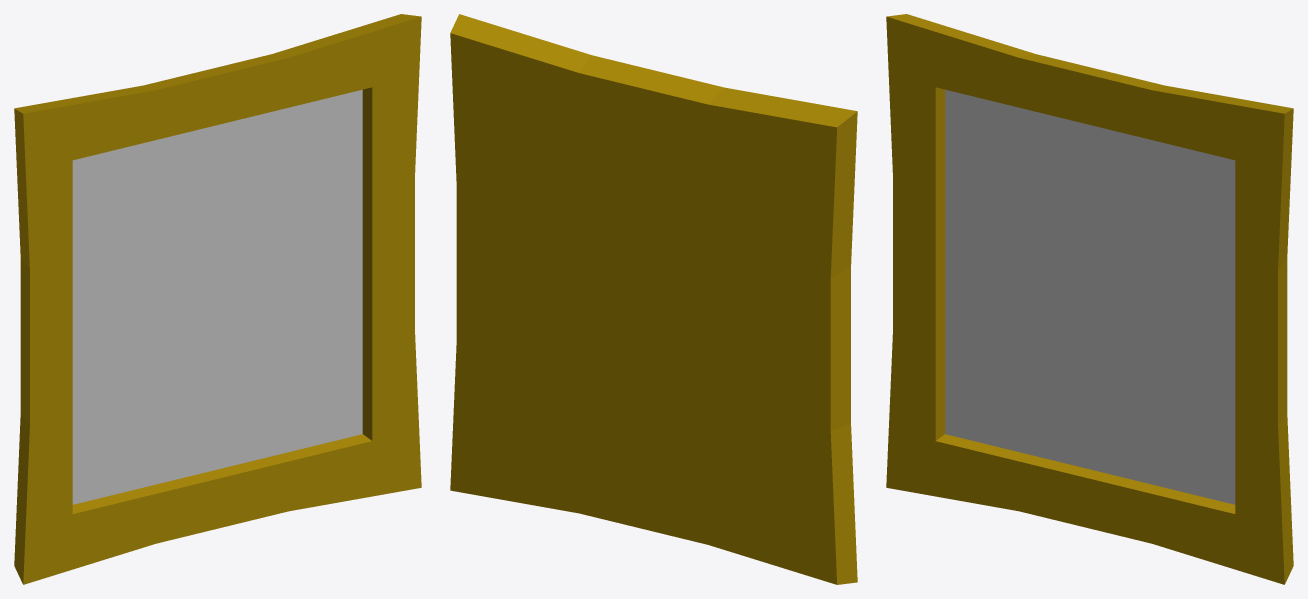
The model's file is mod_painting.fbx.
3 views of the same model, side by side, from view 1: azimuth 30°, elevation 25°; view 2: azimuth 150°, elevation 25°; view 3: azimuth 330°, elevation 25° (orthographic).
Visible parts, largest first — view 1: mod_painting; view 2: mod_painting; view 3: mod_painting.
Boxes of the visible parts, x1,y1,x2,y2 form: mod_painting: (14,14,421,584); mod_painting: (450,14,857,584); mod_painting: (886,14,1293,584).
Bounding box in the file's own units: 68.34 × 77.22 × 4.39.
